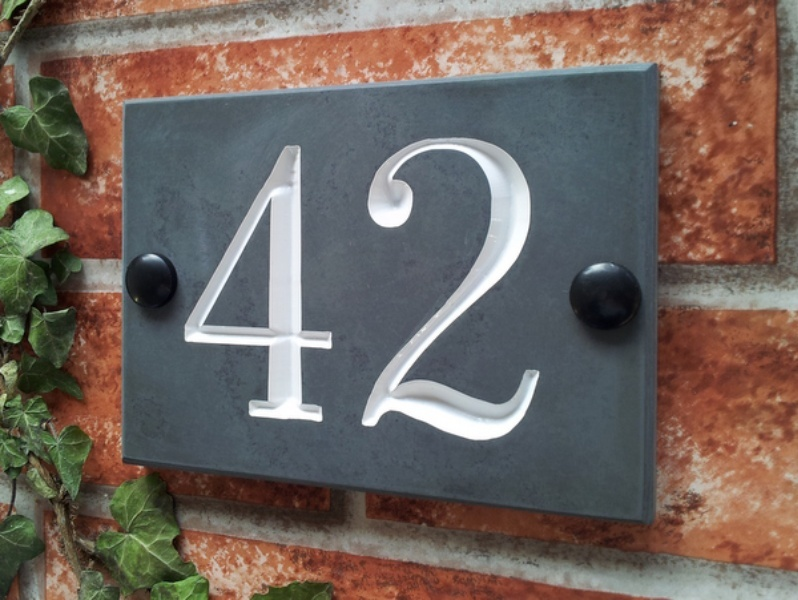text: (193, 131, 208, 449), (209, 131, 224, 449), (225, 131, 240, 449), (241, 131, 256, 449), (257, 131, 272, 449), (273, 131, 288, 449), (289, 131, 304, 449), (305, 131, 320, 449), (321, 131, 336, 449), (337, 131, 352, 449), (353, 131, 368, 449), (369, 131, 384, 449), (385, 131, 400, 449), (401, 131, 416, 449), (417, 131, 432, 449), (433, 131, 448, 449), (449, 131, 464, 449), (465, 131, 480, 449), (481, 131, 496, 449), (497, 131, 512, 449), (513, 131, 528, 449), (529, 131, 544, 449), (184, 131, 192, 449)
